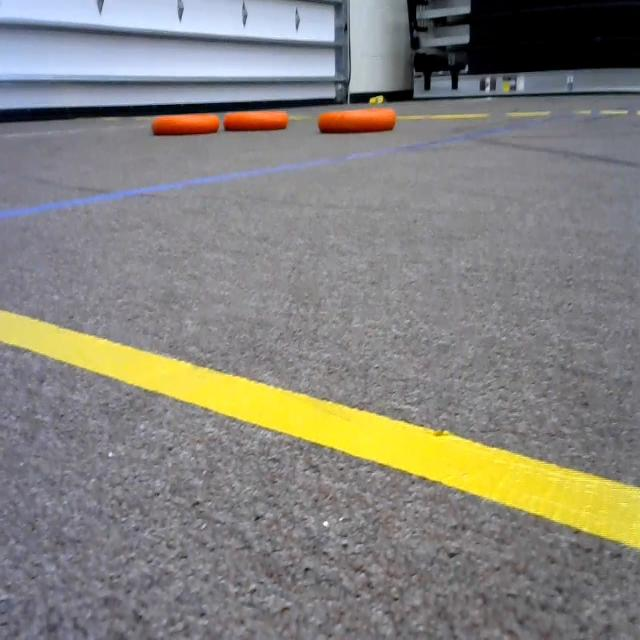note: (313, 104, 404, 132), (149, 104, 219, 140), (218, 101, 292, 131)
